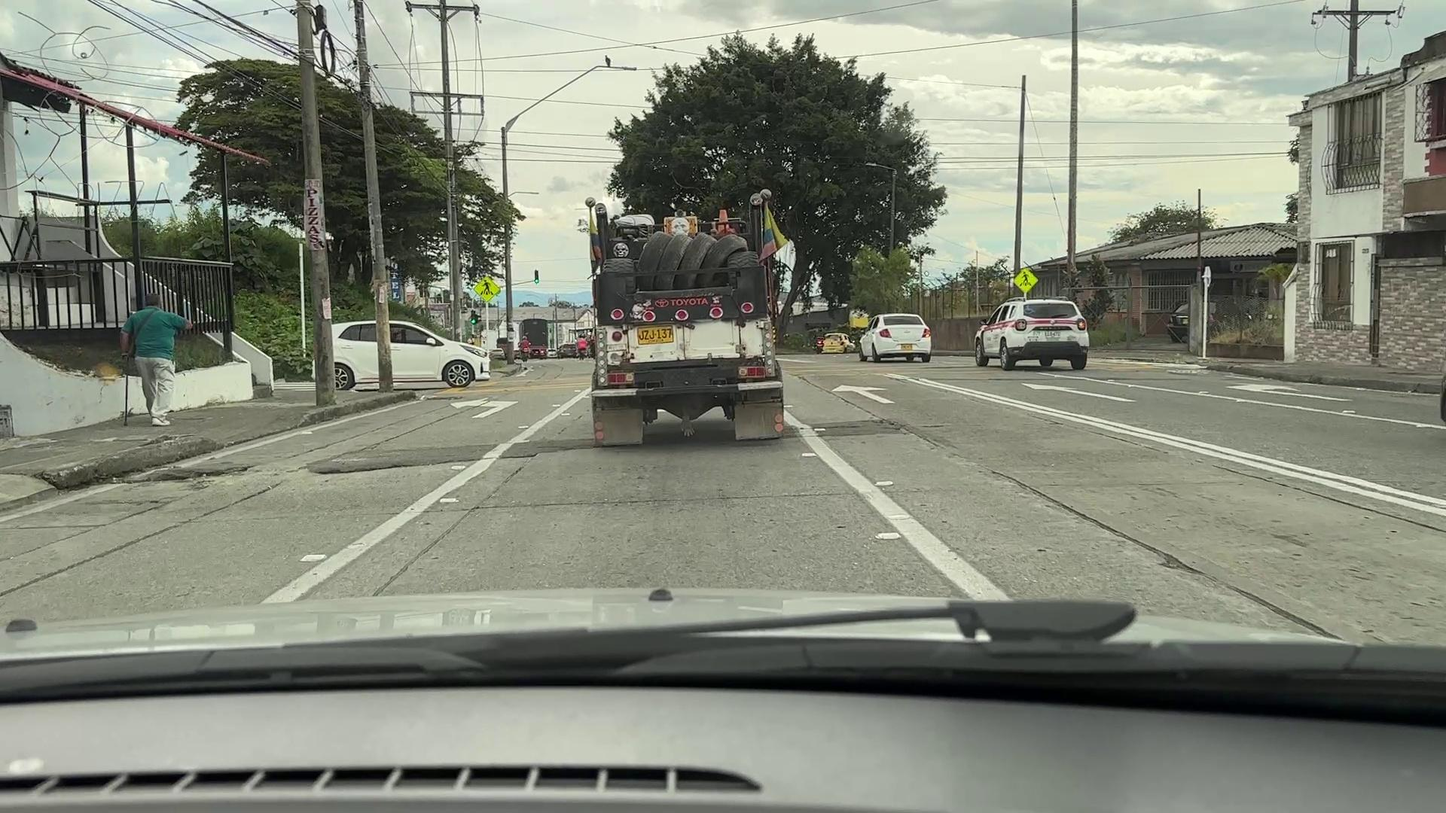bache: (103, 464, 257, 484)
grieta: (991, 470, 1212, 580), (1228, 585, 1345, 641), (316, 453, 538, 474)
